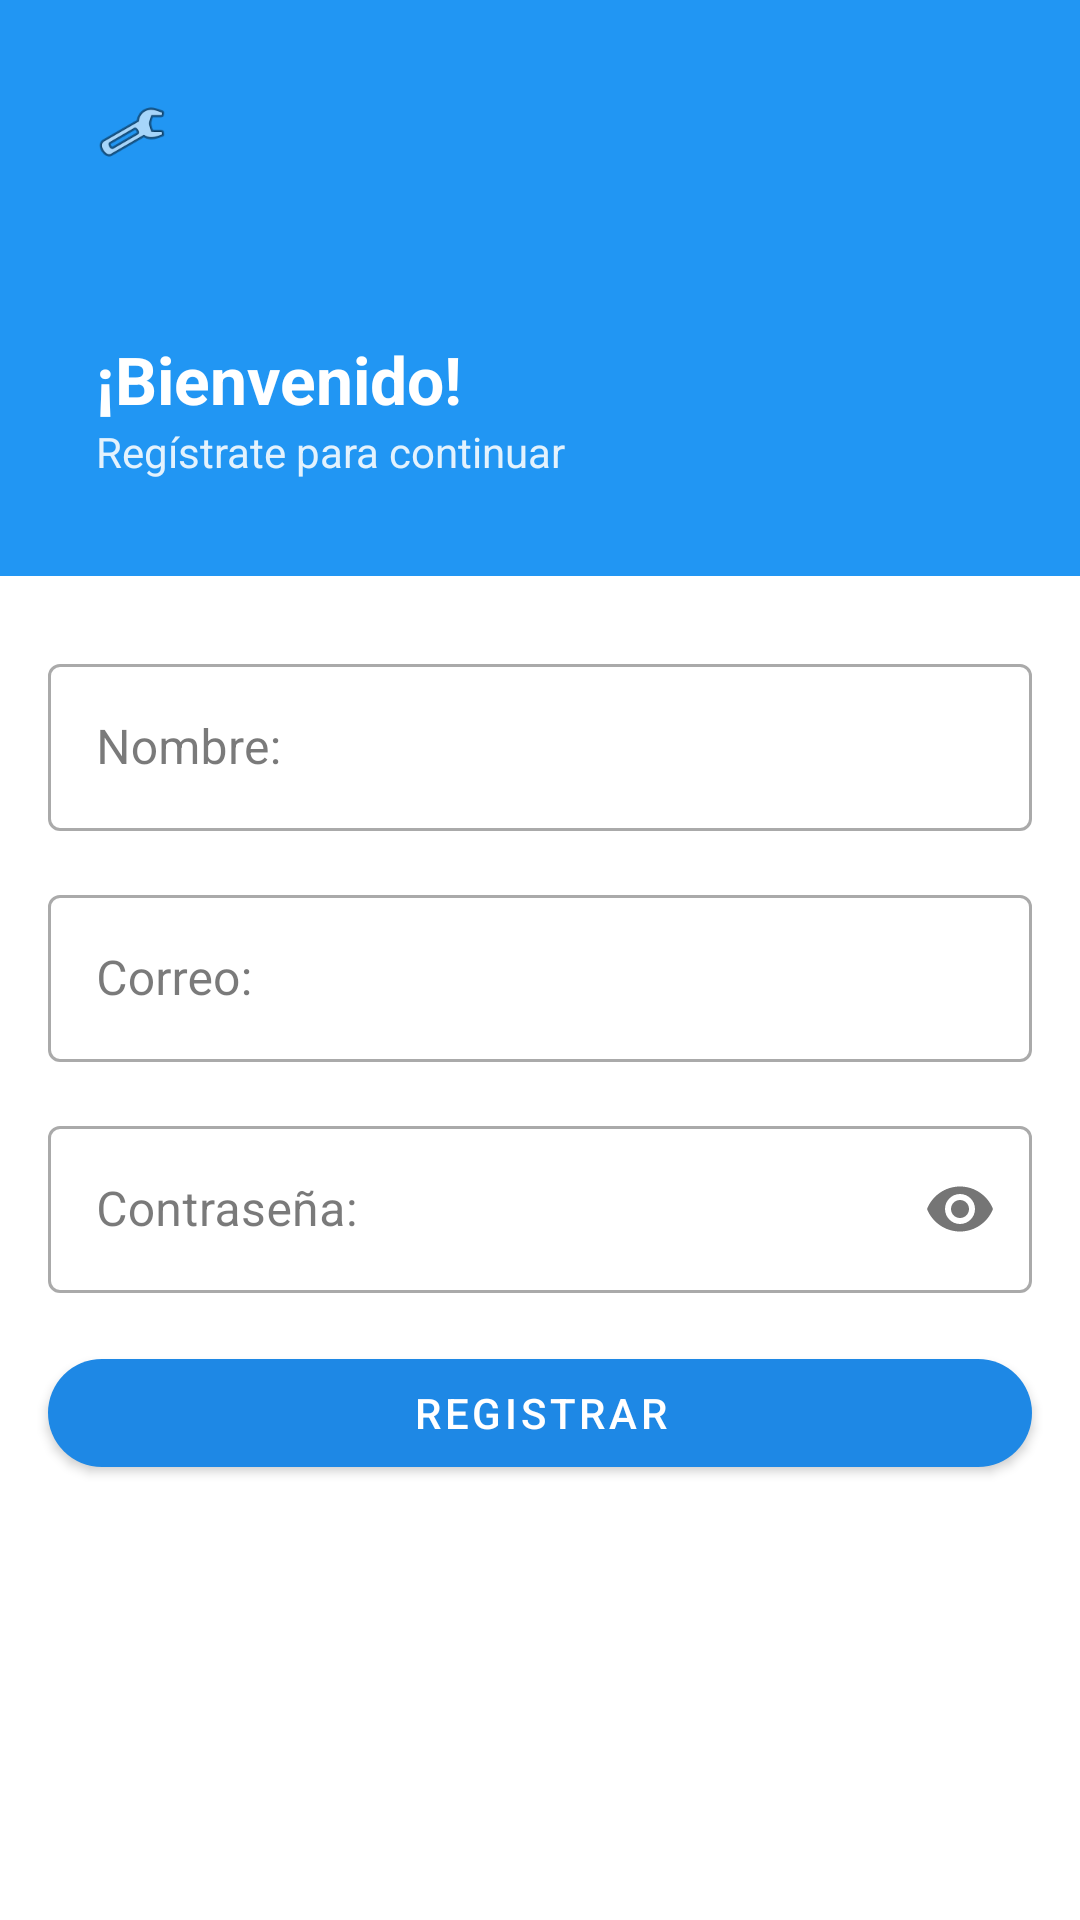

Point at icon controls on the screen. Image size 1080x1920, points as (x,y).
manage: (131,132)
